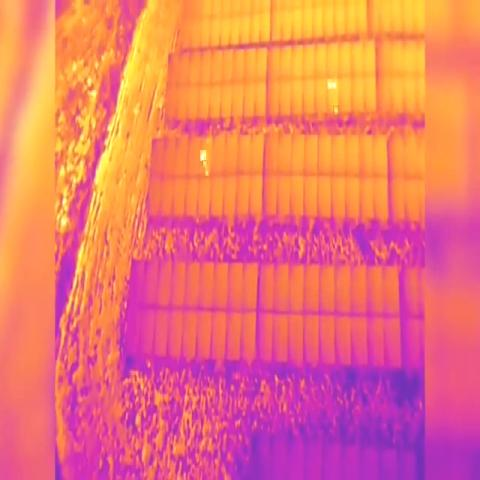fault: (200, 150, 206, 161), (206, 165, 212, 176), (332, 79, 338, 90), (327, 79, 332, 89), (333, 105, 339, 113), (202, 160, 208, 166)
